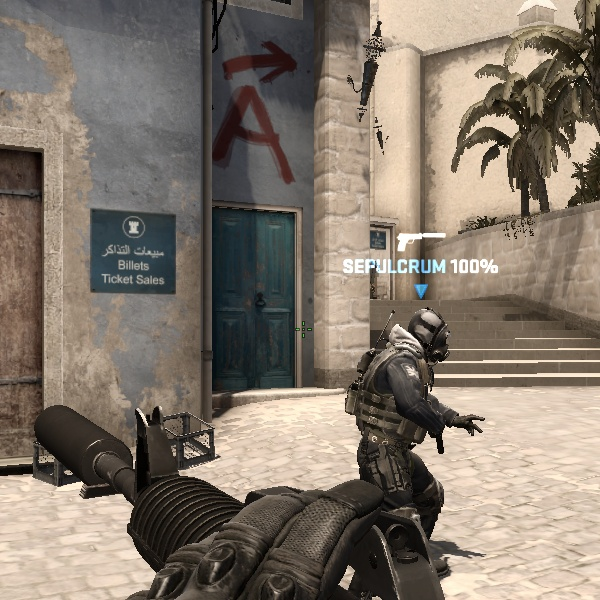ct_body: (323, 296, 480, 586)
ct_head: (395, 303, 463, 371)
